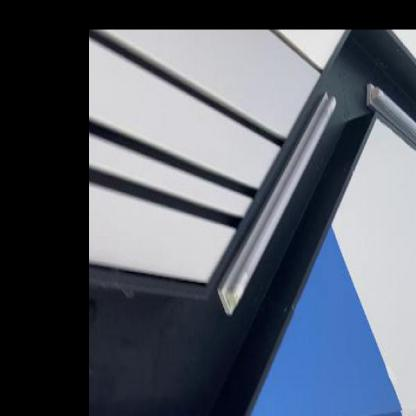light_off: (213, 67, 339, 327), (360, 60, 415, 252)
